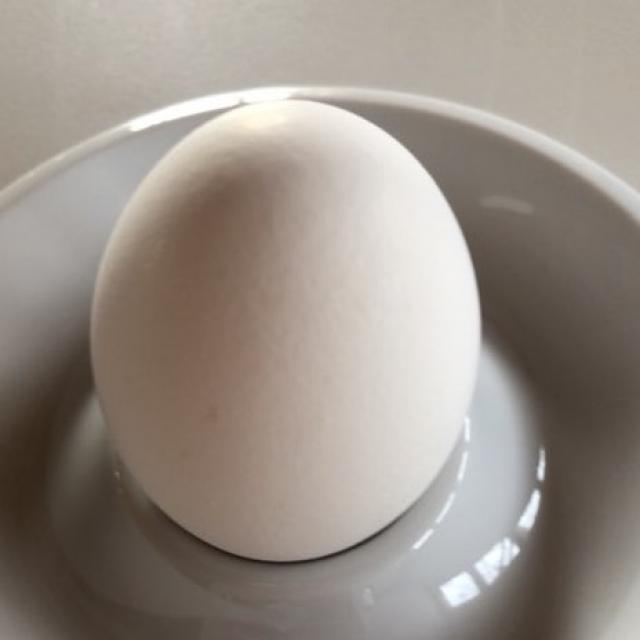egg: (99, 112, 479, 548)
